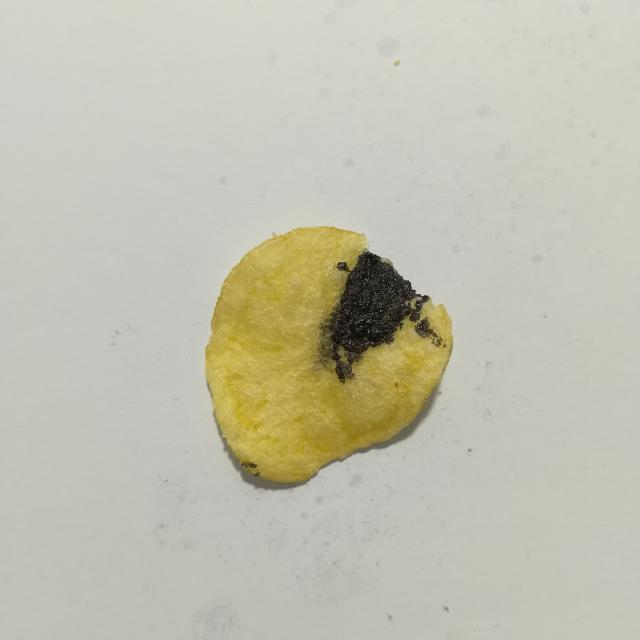chip: (205, 227, 453, 483)
damaged: (316, 250, 443, 383), (241, 461, 257, 469), (255, 472, 260, 476)
